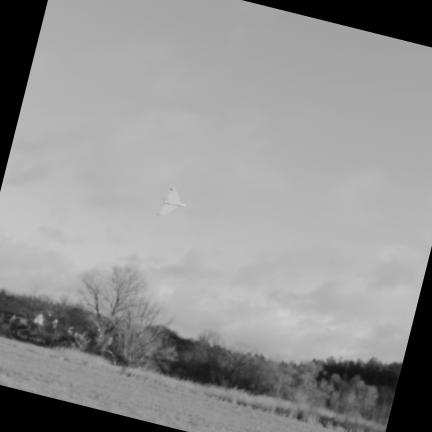Shahed: (158, 187, 184, 216)
